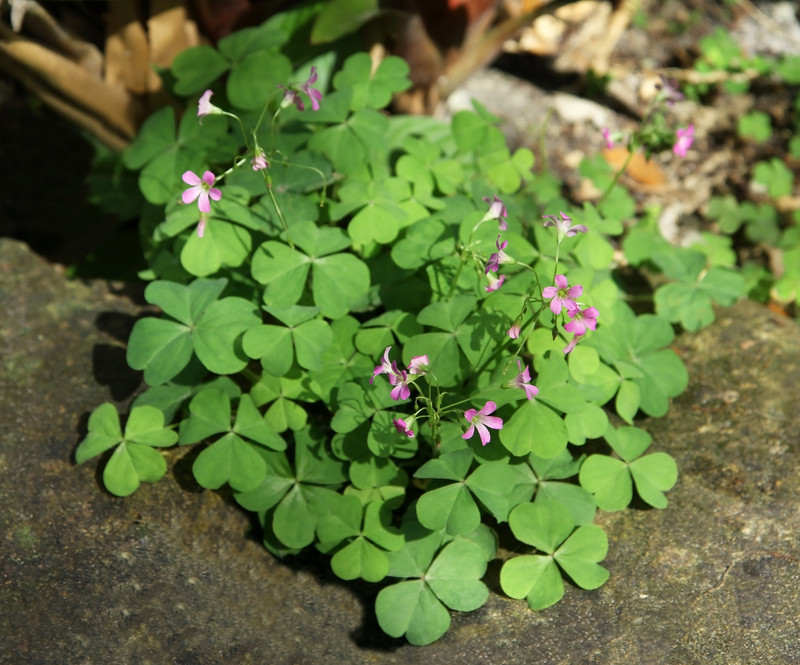oxalis: (95, 109, 687, 631)
